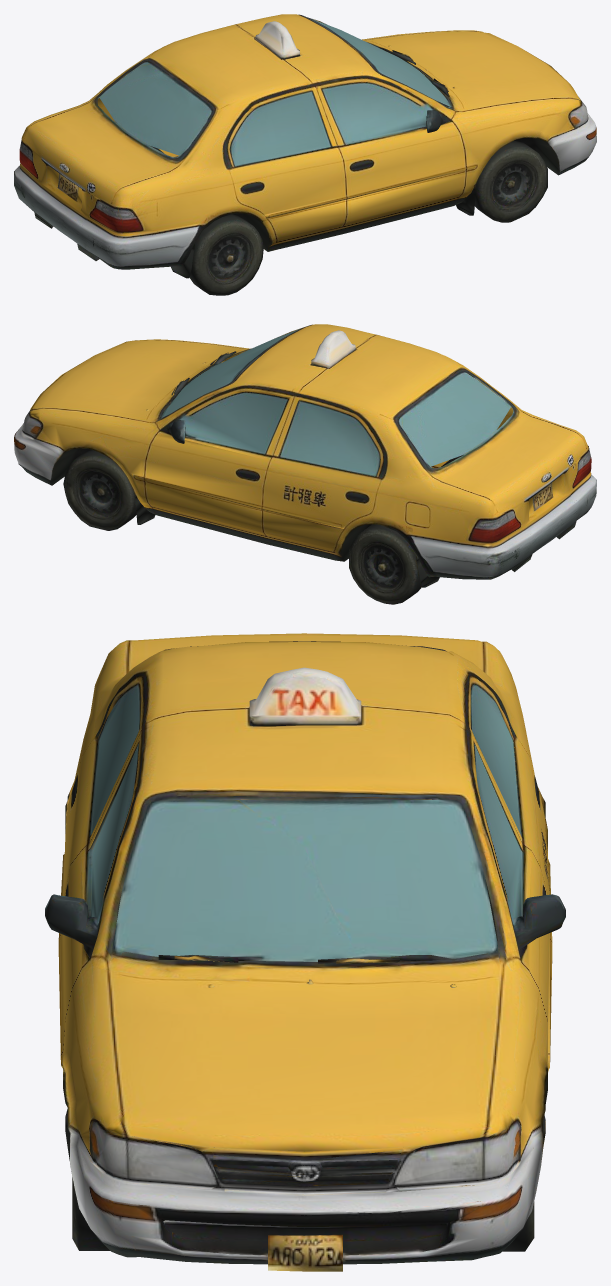
The model's file is taxi.glb.
3 views of the same model, one above another, from view 1: azimuth 30°, elevation 25°; view 2: azimuth 150°, elevation 25°; view 3: azimuth 270°, elevation 25° (orthographic). The views are drawn at different scales.
Visible parts, largest first — view 1: tripo_node_cbaccf64-3a45-4206-86c4-21f64eab0d24; view 2: tripo_node_cbaccf64-3a45-4206-86c4-21f64eab0d24; view 3: tripo_node_cbaccf64-3a45-4206-86c4-21f64eab0d24.
Boxes of the visible parts, left/top/right/bottom form: tripo_node_cbaccf64-3a45-4206-86c4-21f64eab0d24: left=14, top=14, right=596, bottom=295; tripo_node_cbaccf64-3a45-4206-86c4-21f64eab0d24: left=14, top=324, right=596, bottom=604; tripo_node_cbaccf64-3a45-4206-86c4-21f64eab0d24: left=45, top=633, right=565, bottom=1271.
Bounding box in the file's own units: 0.998 × 0.3887 × 0.4473.
1 material, 1 textured.
